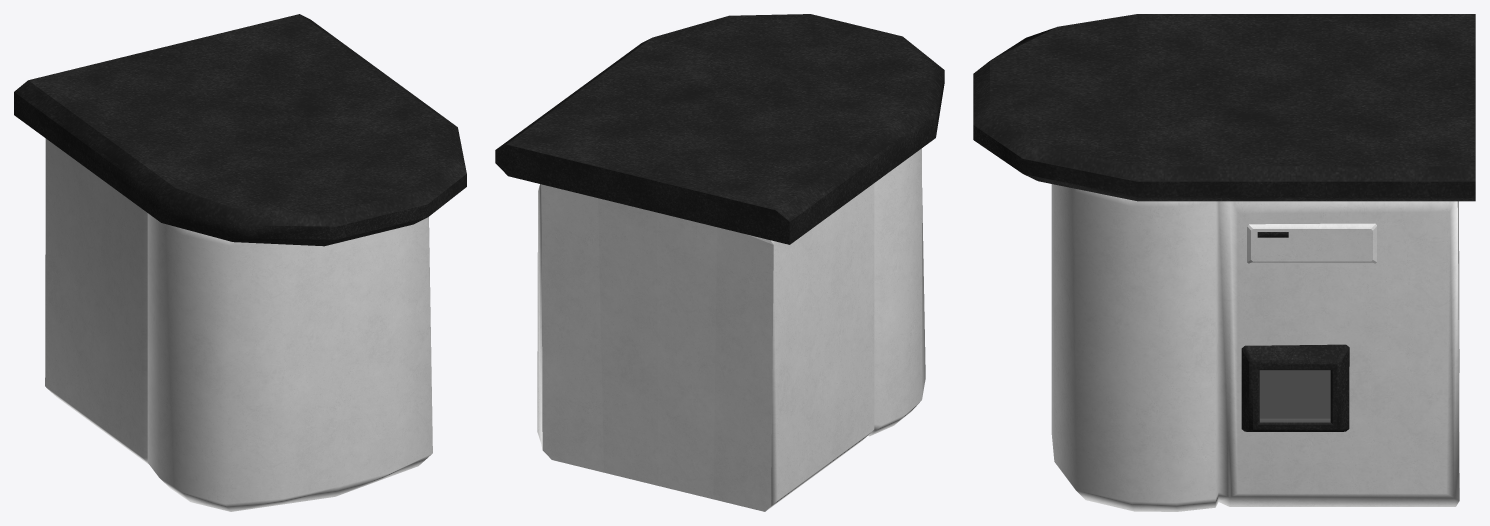
Rendered from CounterCornerLeft_geo.fbx.
The picture shows the model from 3 angles, left to right: view 1: azimuth 30°, elevation 25°; view 2: azimuth 150°, elevation 25°; view 3: azimuth 270°, elevation 25°; orthographic projection. The views are drawn at different scales.
Visible parts, largest first — view 1: Counter_L_RoundEnd, L_RoundCounterTop; view 2: Counter_L_RoundEnd, L_RoundCounterTop; view 3: Counter_L_RoundEnd, L_RoundCounterTop, Sqr_Pnl, Rctngl_Pnl.
Part boxes in pixels (x1,y1,x2,y2): Counter_L_RoundEnd: (45,138,432,511); L_RoundCounterTop: (14,14,466,246); Counter_L_RoundEnd: (537,148,925,511); L_RoundCounterTop: (495,14,944,244); Counter_L_RoundEnd: (1051,184,1459,511); L_RoundCounterTop: (973,14,1475,201); Sqr_Pnl: (1241,344,1349,431); Rctngl_Pnl: (1247,223,1376,263).
Size of the model in its own units: 98.01 by 99.62 by 125.
Materials: 1 (1 with a texture image).
